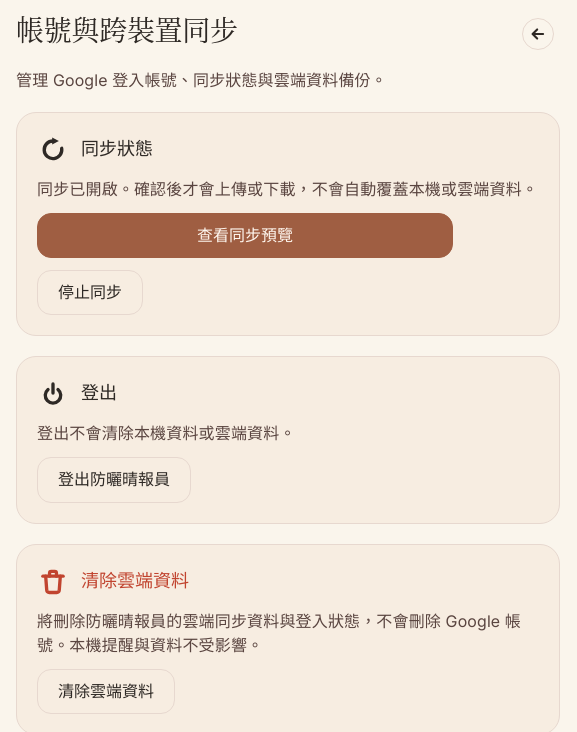
Test: AccountDataPage › 停止同步只改本機同步開關，保留雲端操作入口
Step 1. Click the button "停止同步" → (90, 293), box [37,270,143,315]
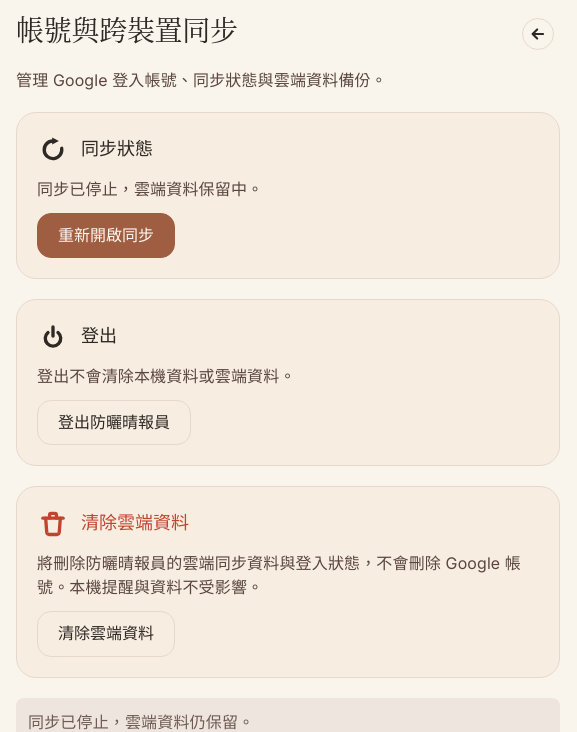
Result: the text "重新開啟同步" is shown at [37,213,175,258]
